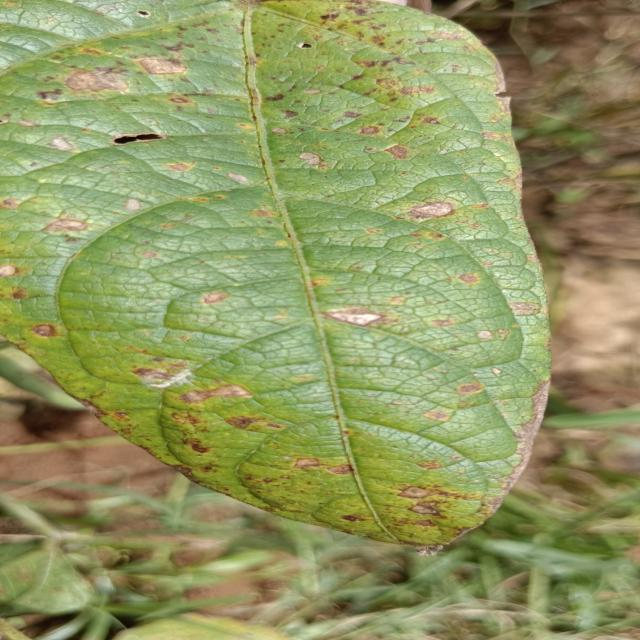Black gram_leaf spot: (0, 0, 567, 561)
